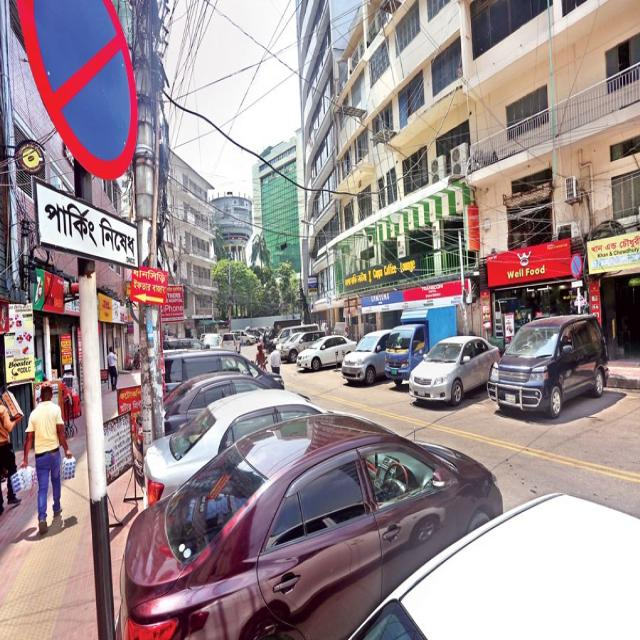car: (96, 440, 491, 640), (499, 308, 604, 420), (411, 329, 484, 405), (342, 318, 403, 388), (299, 318, 347, 382)
